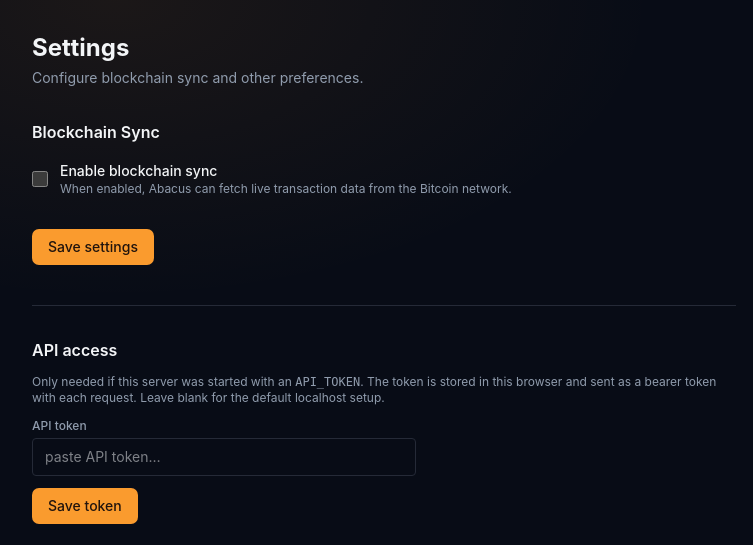
it: SettingsPage privacy notice › saves an API token to localStorage
Expected: the text "Enable blockchain sync" is shown, [60,162,217,179]
Type "my-secret" into the password field labelled "API token" at (224, 457), box [32,438,416,476]
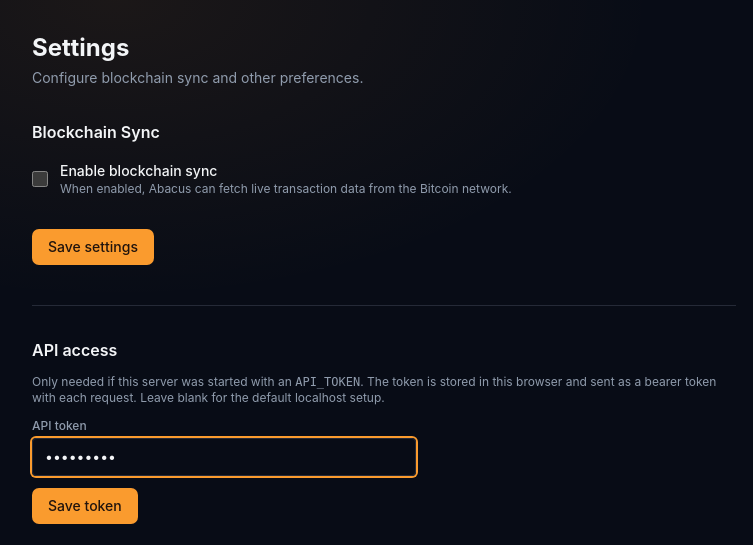
Click the button "Save token" at (85, 506), box [32,488,138,524]
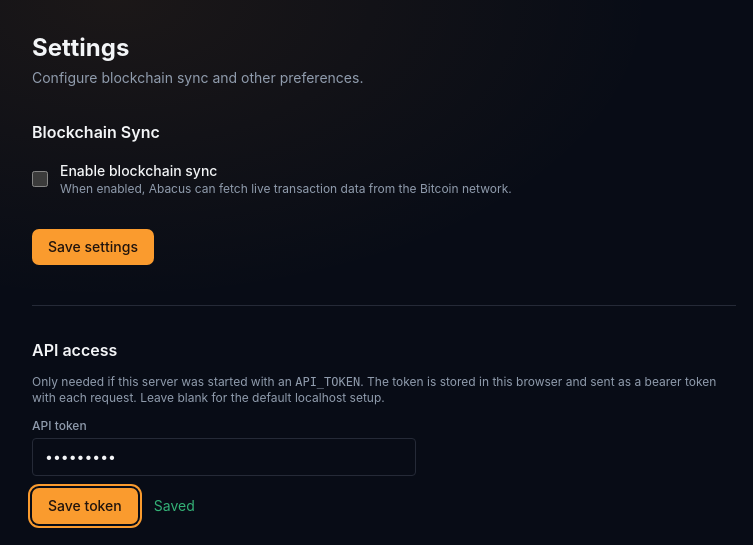
Expected: the text "Saved" is shown, [154,496,195,516]
